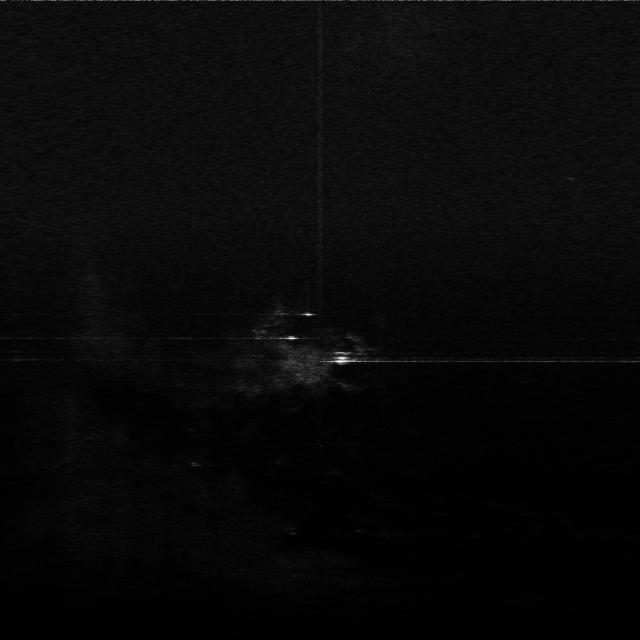rov: (330, 348, 350, 368)
